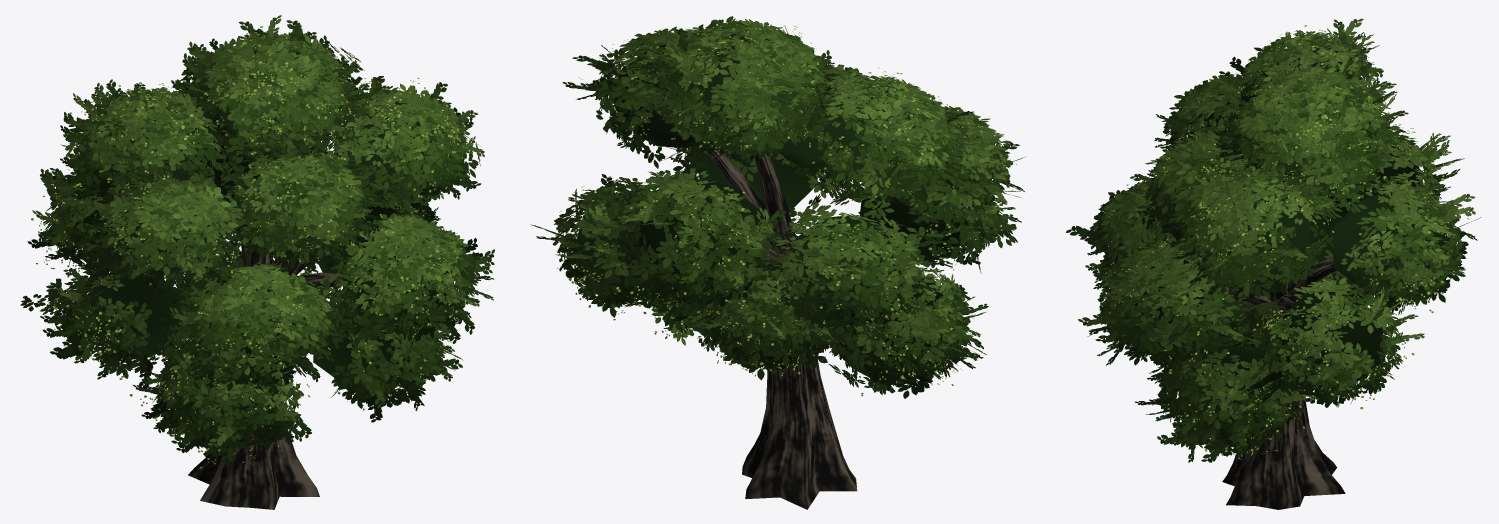
The model's file is CreTree08.glb.
3 renders of one model, left to right at view 1: azimuth 30°, elevation 25°; view 2: azimuth 150°, elevation 25°; view 3: azimuth 270°, elevation 25°, orthographic. The views are drawn at different scales.
Visible parts, largest first — view 1: CreTree08_leaves; view 2: CreTree08_leaves; view 3: CreTree08_leaves.
Part boxes in pixels (x1,y1,x2,y2): CreTree08_leaves: (20, 15, 494, 509); CreTree08_leaves: (531, 16, 1026, 509); CreTree08_leaves: (1066, 18, 1481, 509).
Bounding box in the file's own units: 9.52 × 9.55 × 8.48.
3 materials, 2 textured.
